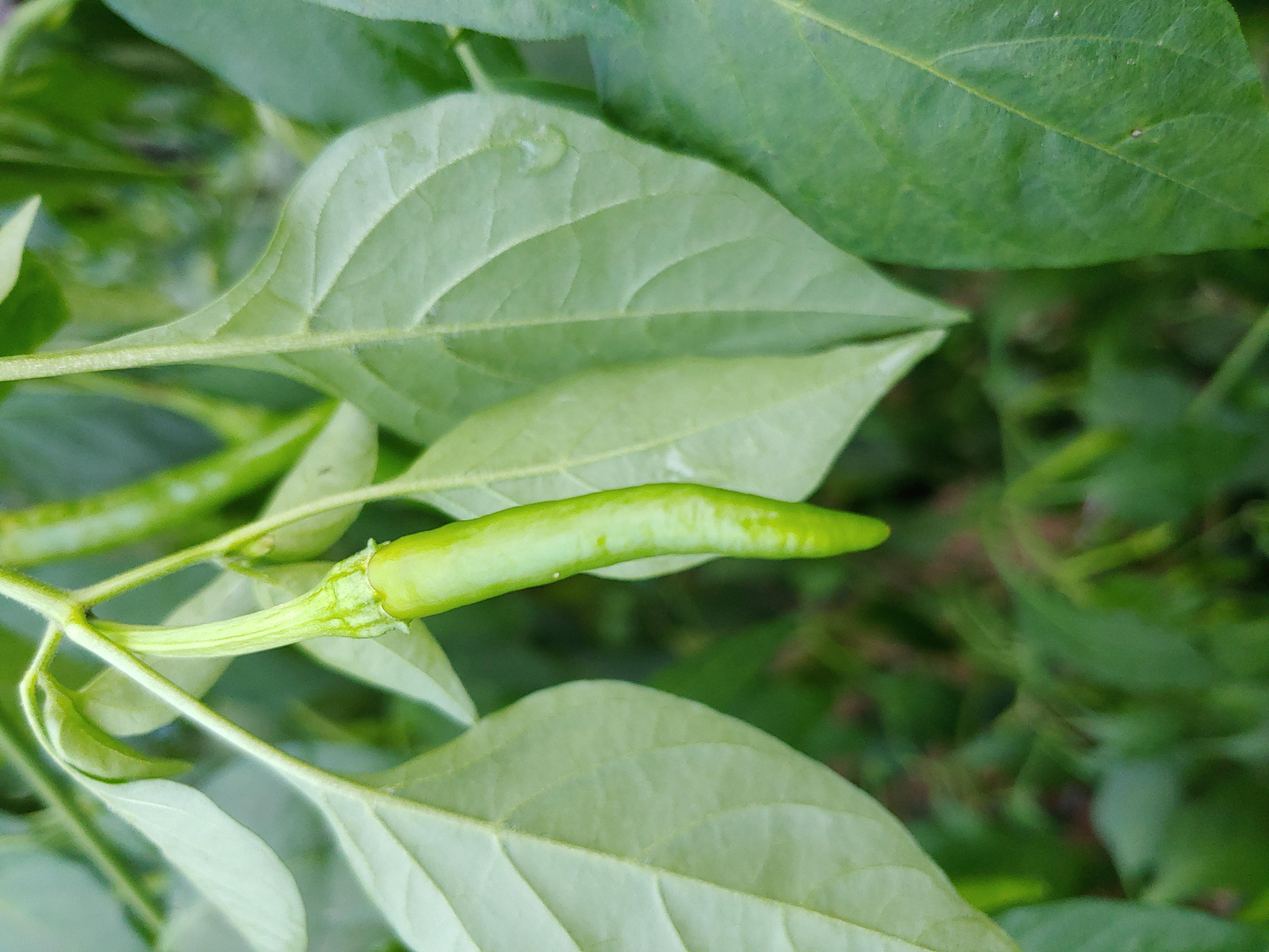Buah Cabai Sehat: (318, 485, 898, 649)
Daun Cabai Sehat: (165, 89, 975, 455), (296, 676, 1034, 952), (587, 0, 1269, 270)
